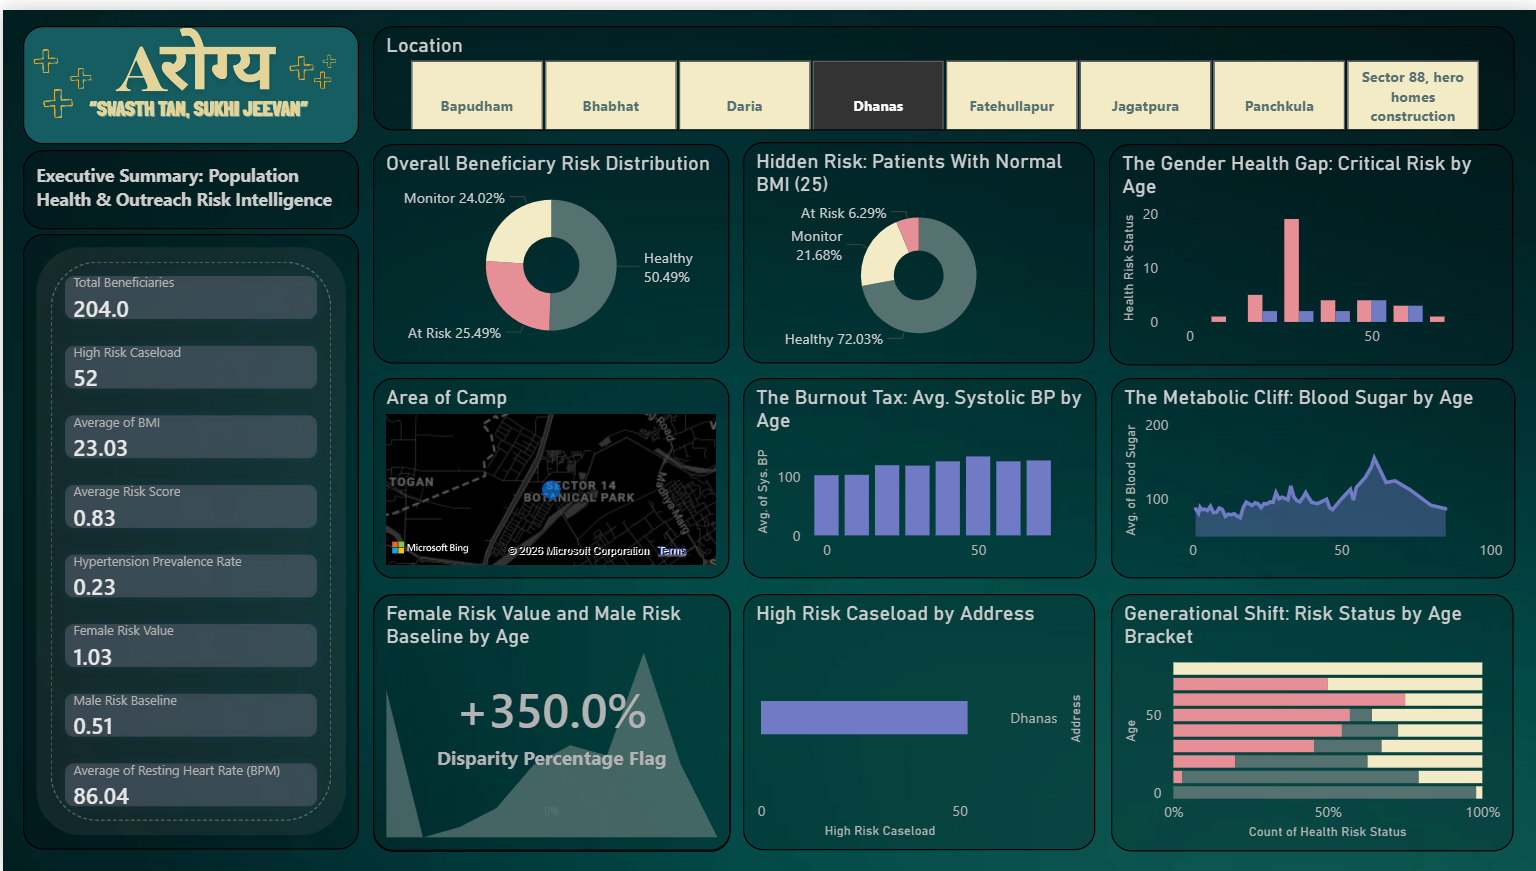

What the dashboard file says about the page in this screenshot:
{"tool":"powerbi","page":{"name":"Page 1","canvas":[1280,720],"ordinal":0},"visuals":[{"type":"donutChart","title":"Overall Beneficiary Risk Distribution","fields":{"Category":["Sheet1.Health Risk Status"],"Y":["CountNonNull(Sheet1.Health Risk Status)"]},"box":[308.6,111.4,297.1,182.9],"z":0},{"type":"hundredPercentStackedBarChart","title":"Generational Shift: Risk Status by Age Bracket","fields":{"Category":["Sheet1.Age (bins)"],"Y":["CountNonNull(Sheet1.Health Risk Status)"],"Series":["Sheet1.Health Risk Status"]},"box":[922.7,486.4,335.5,214.5],"z":1000},{"type":"lineChart","title":"The Metabolic Cliff: Blood Sugar by Age","fields":{"Category":["Sheet1.Age"],"Y":["Avg(Sheet1.Blood Sugar)"]},"box":[922.9,307.1,337.1,167.1],"z":2000},{"type":"clusteredColumnChart","title":"The Gender Health Gap: Critical Risk by Age","fields":{"Category":["Sheet1.Age (bins)"],"Series":["Sheet1.Gender"],"Y":["CountNonNull(Sheet1.Health Risk Status)"]},"box":[921.4,111.4,337.1,184.3],"z":3000},{"type":"slicer","title":"Location","fields":{"Values":["Sheet1.Address"]},"box":[308.6,12.9,951.4,87],"z":4000},{"type":"map","title":"Area of Camp","fields":{"Y":["Sheet1 (4).Latitude"],"X":["Sheet1 (4).Longitute"],"Size":["CountNonNull(Sheet1.Health Risk Status)"]},"box":[308.6,307.1,297.1,167.1],"z":5000},{"type":"donutChart","title":"Hidden Risk: Patients With Normal BMI (25)","fields":{"Category":["Sheet1.Health Risk Status"],"Y":["CountNonNull(Sheet1.Health Risk Status)"]},"box":[616.7,110,292.9,184.3],"z":6000},{"type":"clusteredColumnChart","title":"The Burnout Tax: Avg. Systolic BP by Age","fields":{"Category":["Sheet1.Age (bins)"],"Y":["Avg(Sheet1.Systolic BP)"]},"box":[617.1,307.1,294.3,167.1],"z":7000},{"type":"cardVisual","fields":{"Data":["_Calculated Measures.'Total_Beneficiaries'","_Calculated Measures.High_Risk_Caseload","Avg(Sheet1 (4).BMI)","_Calculated Measures.Avg_Risk_Score","_Calculated Measures.Hypertension_Prevalence_Rate","_Calculated Measures.Female_Risk_Value","_Calculated Measures.Male_Risk_Baseline","Avg(Sheet1 (4).Resting Heart Rate (BPM))"]},"box":[17.1,187.1,280,512.9],"z":8000},{"type":"image","box":[16.7,13.3,280,98.3],"z":9000},{"type":"kpi","title":"Female Risk Value and Male Risk Baseline by Age","fields":{"Goal":["_Calculated Measures.Male Risk Baseline"],"Indicator":["_Calculated Measures.Female Risk Value"],"TrendLine":["Sheet1.Age (bins)"]},"box":[308,486,298,214],"z":10000},{"type":"clusteredBarChart","fields":{"Category":["Sheet1.Address"],"Y":["_Calculated Measures.High Risk Caseload"]},"box":[617.3,486.4,293.6,213.6],"z":11000},{"type":"textbox","box":[16.7,116.7,280,66],"z":12000},{"type":"cardVisual","fields":{"Data":["_Calculated Measures.Disparity Percentage Flag"]},"box":[308,486,298,215],"z":13000}]}

Visuals, with their boxes in screenshot pixels (x1, y1, x2, y2), scaled from the page's 1280x720 canvas onto the 1536x871 screenshot:
"Overall Beneficiary Risk Distribution" donutChart: [left=370, top=135, right=727, bottom=356]
"Generational Shift: Risk Status by Age Bracket" hundredPercentStackedBarChart: [left=1107, top=588, right=1510, bottom=848]
"The Metabolic Cliff: Blood Sugar by Age" lineChart: [left=1107, top=372, right=1512, bottom=574]
"The Gender Health Gap: Critical Risk by Age" clusteredColumnChart: [left=1106, top=135, right=1510, bottom=358]
"Location" slicer: [left=370, top=16, right=1512, bottom=121]
"Area of Camp" map: [left=370, top=372, right=727, bottom=574]
"Hidden Risk: Patients With Normal BMI (25)" donutChart: [left=740, top=133, right=1092, bottom=356]
"The Burnout Tax: Avg. Systolic BP by Age" clusteredColumnChart: [left=741, top=372, right=1094, bottom=574]
cardVisual - _Calculated Measures.'Total_Beneficiaries' x _Calculated Measures.High_Risk_Caseload: [left=21, top=226, right=357, bottom=847]
image: [left=20, top=16, right=356, bottom=135]
"Female Risk Value and Male Risk Baseline by Age" kpi: [left=370, top=588, right=727, bottom=847]
clusteredBarChart - Sheet1.Address x _Calculated Measures.High Risk Caseload: [left=741, top=588, right=1093, bottom=847]
textbox: [left=20, top=141, right=356, bottom=221]
cardVisual - _Calculated Measures.Disparity Percentage Flag: [left=370, top=588, right=727, bottom=848]
